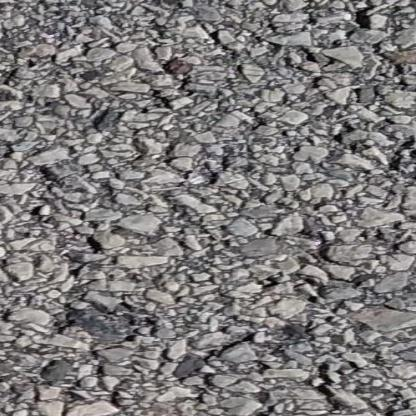Cracks: (20, 0, 416, 46)
